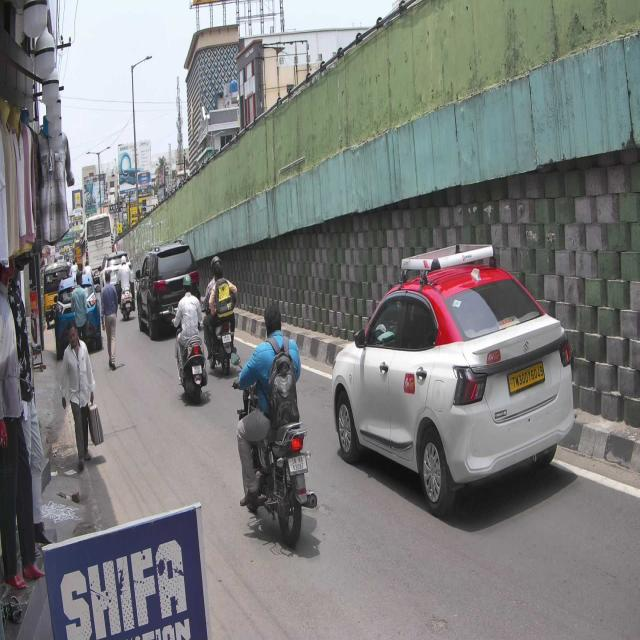single_rider: (234, 300, 318, 548), (170, 272, 208, 406)
